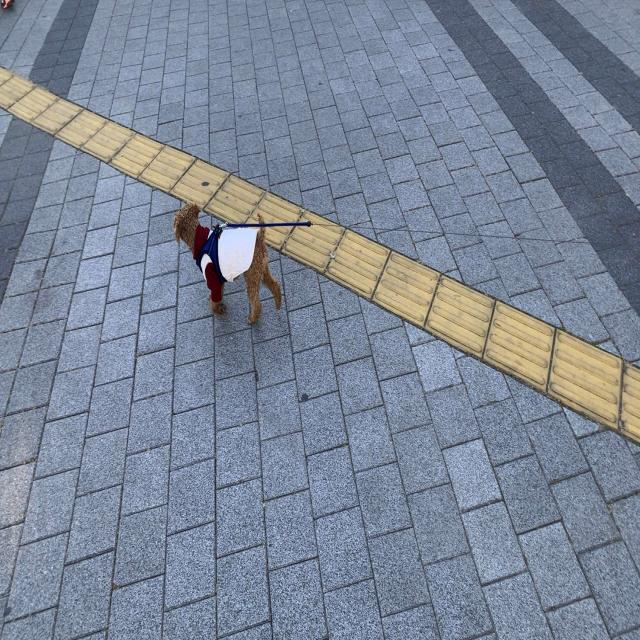Dog: (172, 199, 282, 327)
